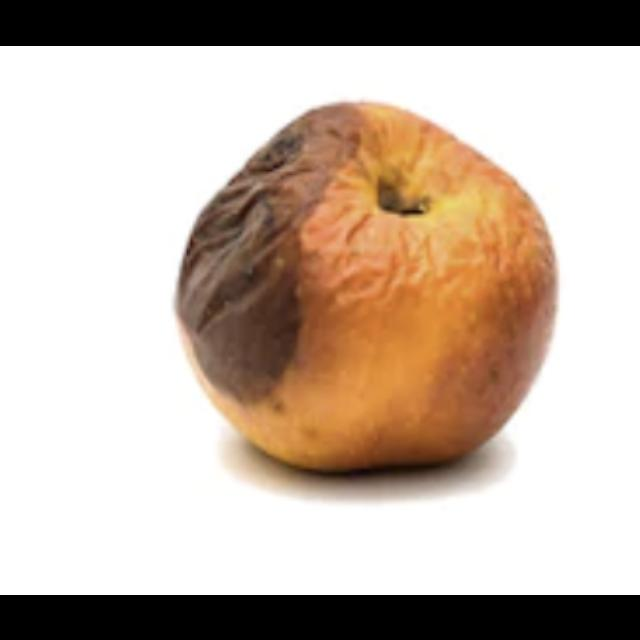Apel Tidak Segar: (167, 94, 567, 482)
